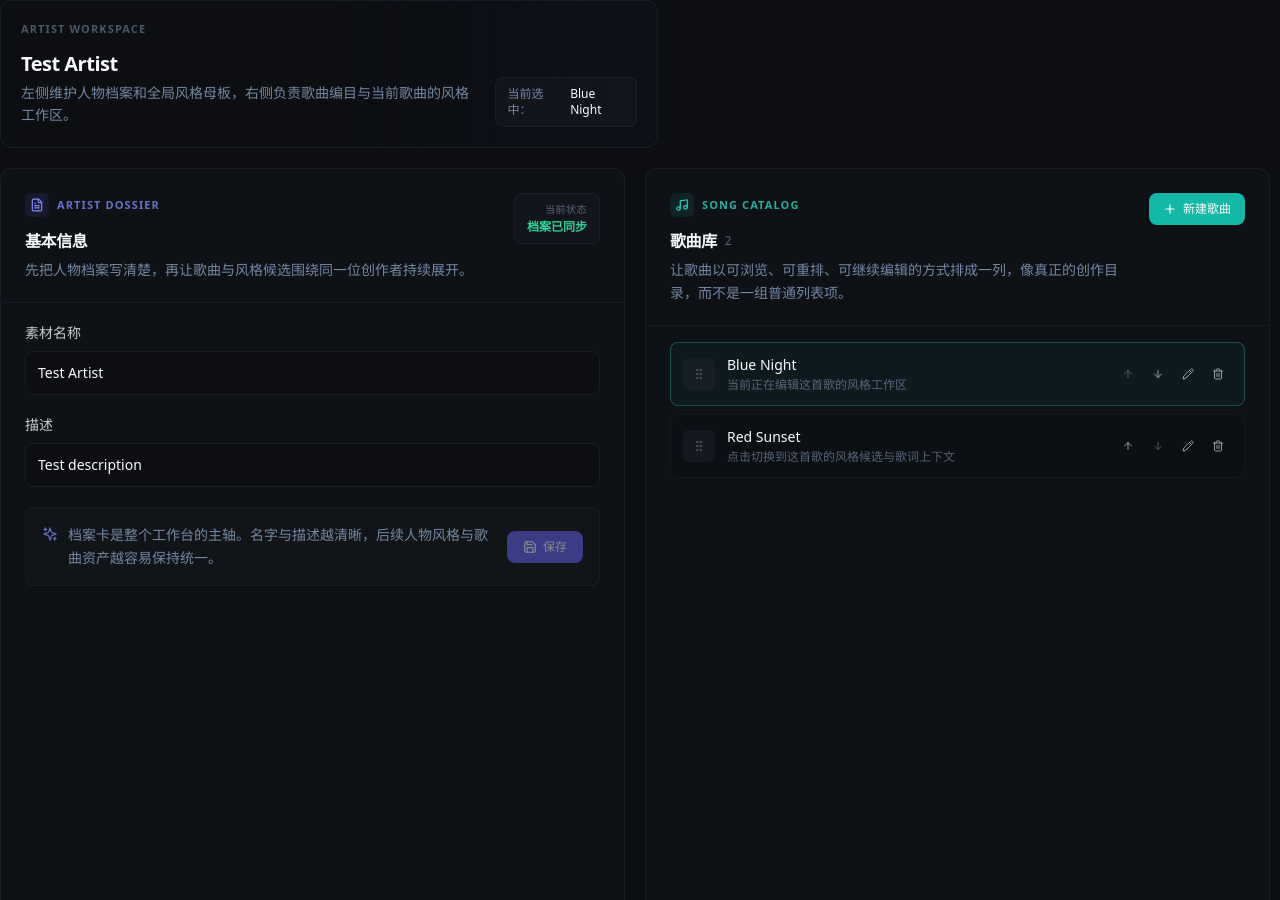
Test case: ArtistWorkspace › creates songs locally without refetching detail
The width and height of the screenshot is (1280, 900).
Expected: the text "歌曲库" is shown, [670, 230, 717, 252]
Step 1. Click the button "新建歌曲" → {"x": 1197, "y": 209}, box [1149, 193, 1245, 225]
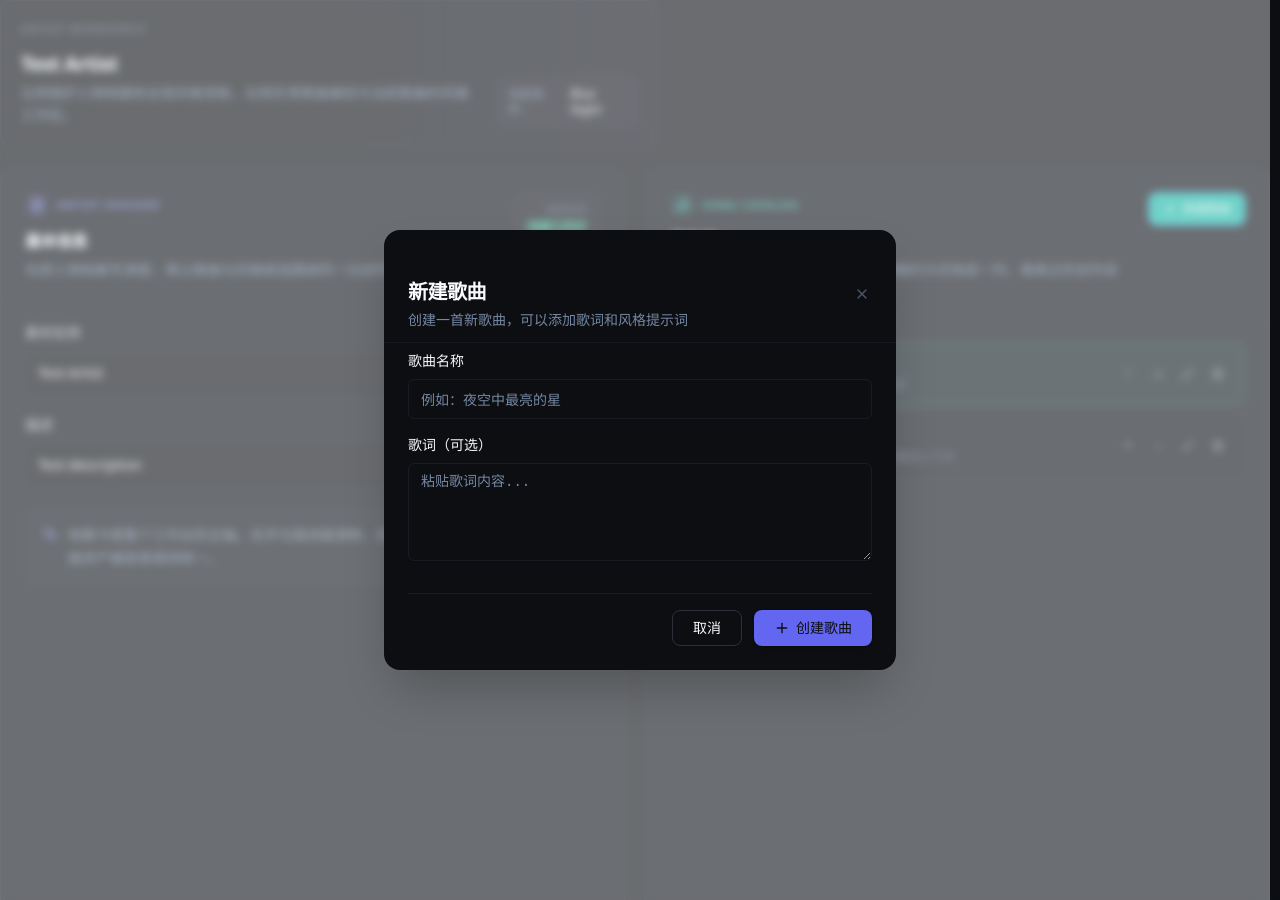
Step 2. Type "Golden Hour" into the field with placeholder "例如：夜空中最亮的星" → {"x": 640, "y": 399}, box [408, 379, 872, 419]
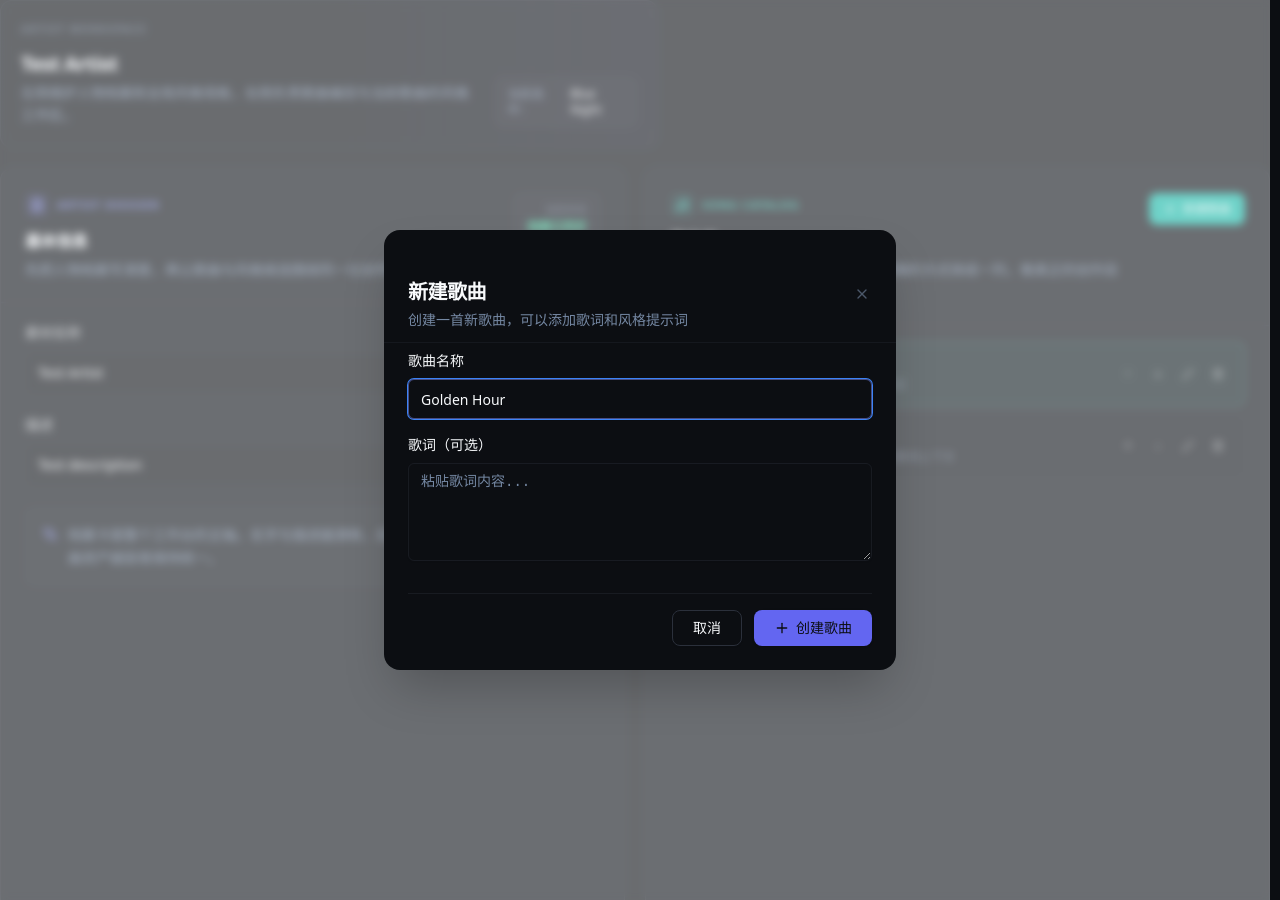
Step 3. Type "新歌词" into the text box with placeholder "粘贴歌词内容..." → {"x": 640, "y": 512}, box [408, 463, 872, 561]
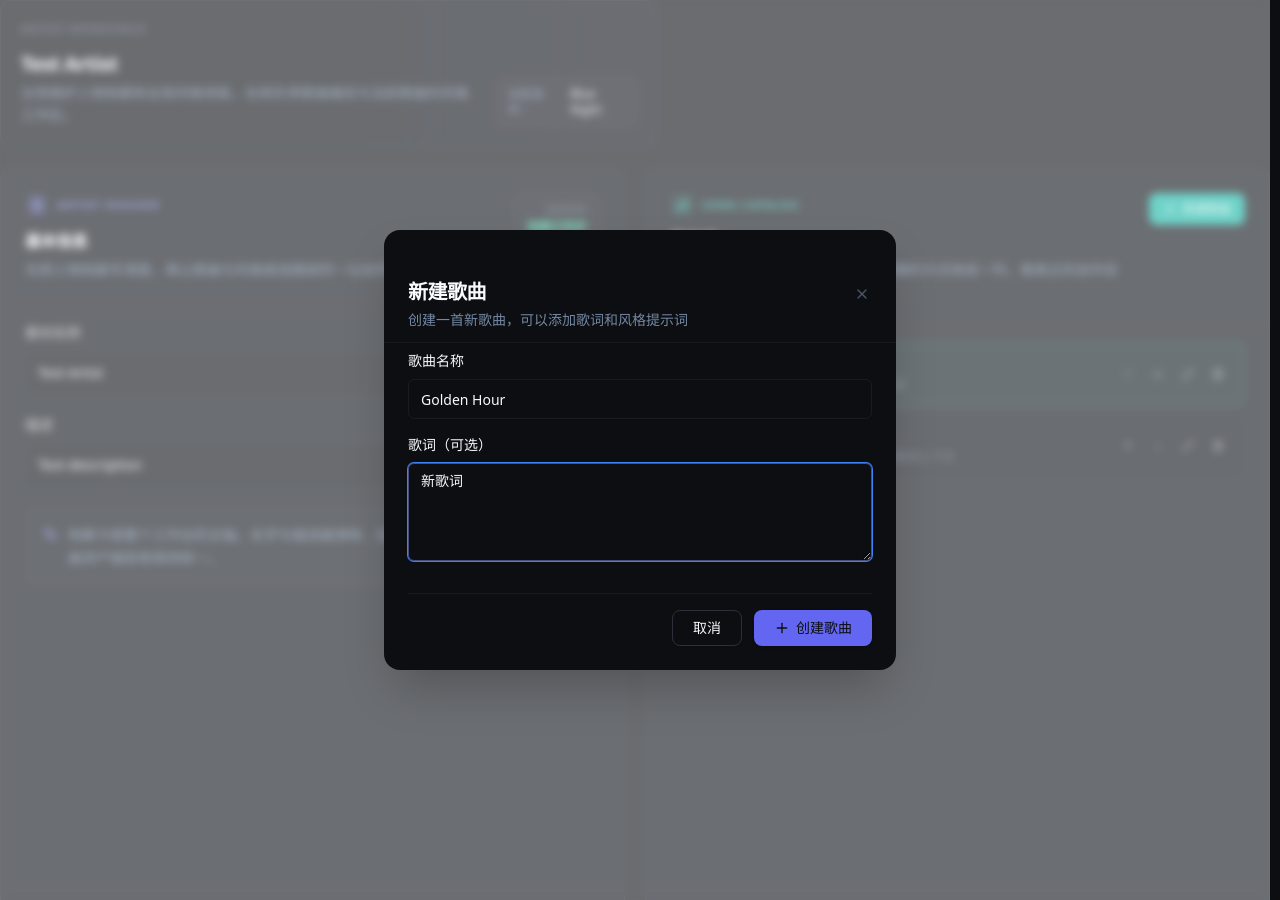
Step 4. Click the button "创建歌曲" → {"x": 813, "y": 628}, box [754, 610, 872, 646]
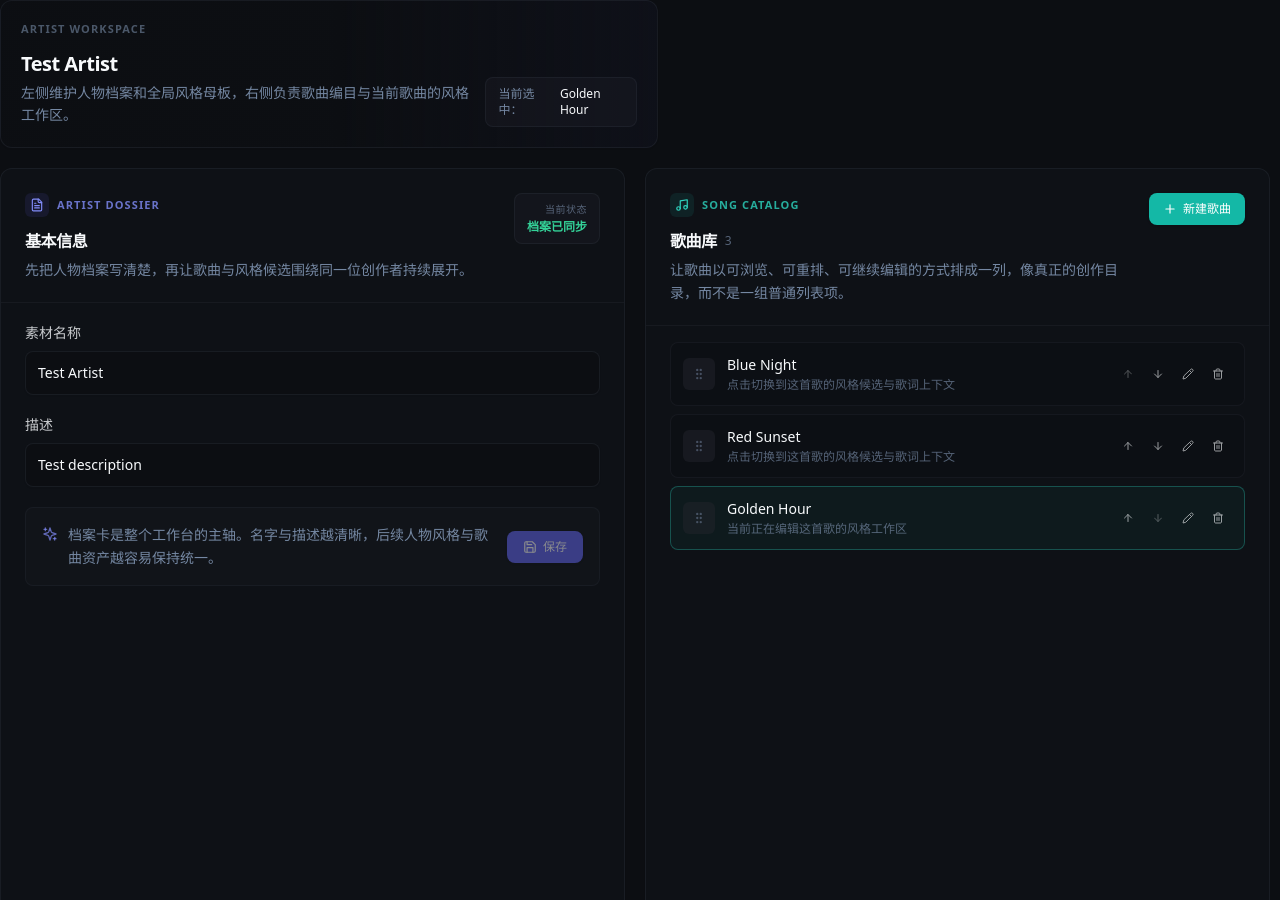
Expected: the text "当前选中： Golden Hour" is shown, [485, 77, 637, 127]
Now the button named "Golden Hour当前正在编辑这首歌的风格工作区" is shown, box [727, 498, 1102, 536]
